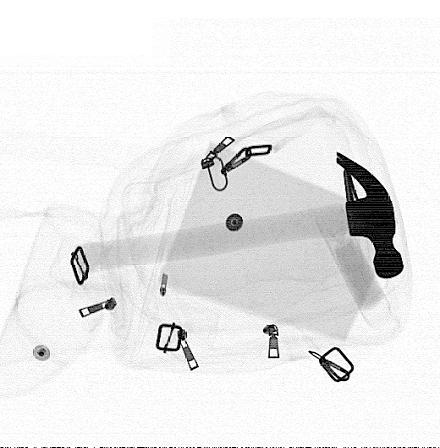Hammer: (82, 152, 404, 279)
